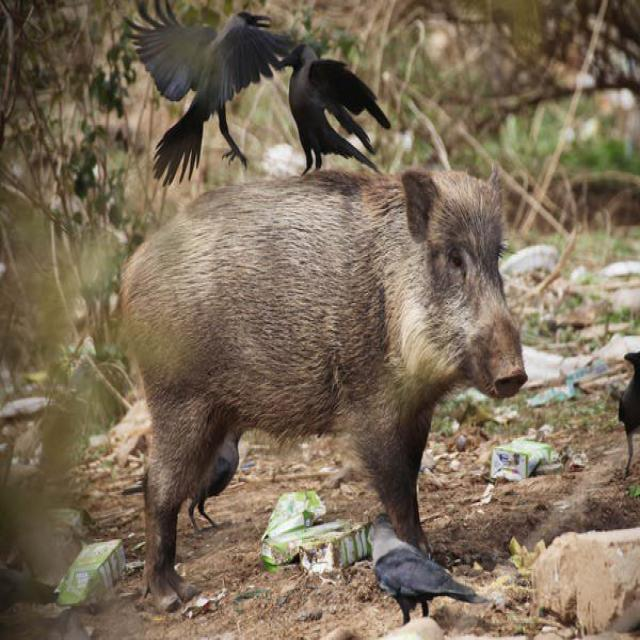Boar: (120, 180, 512, 572)
